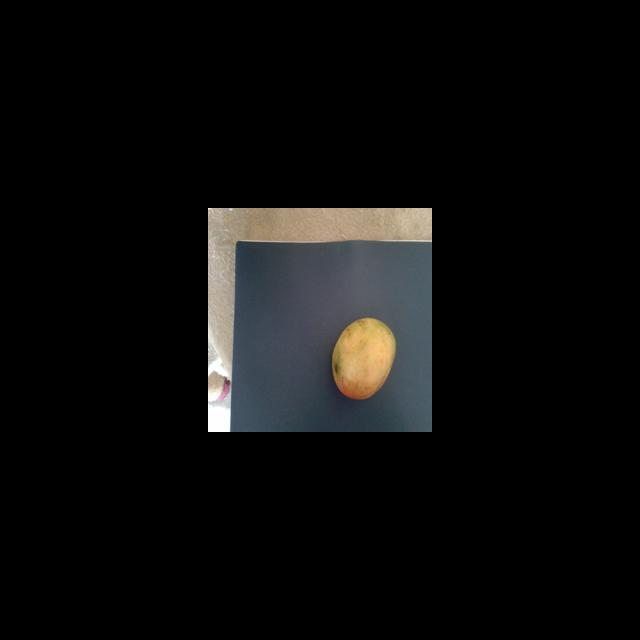Mango: (331, 316, 396, 400)
